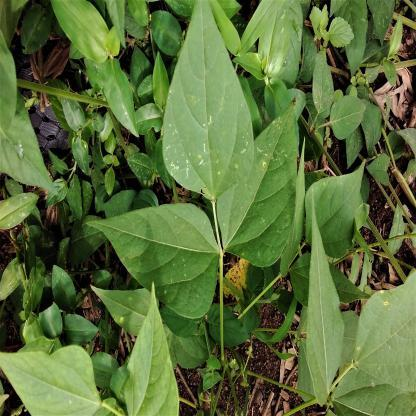Beans_Rust: (160, 0, 254, 188), (218, 97, 300, 268), (90, 204, 209, 313), (355, 270, 415, 392)
